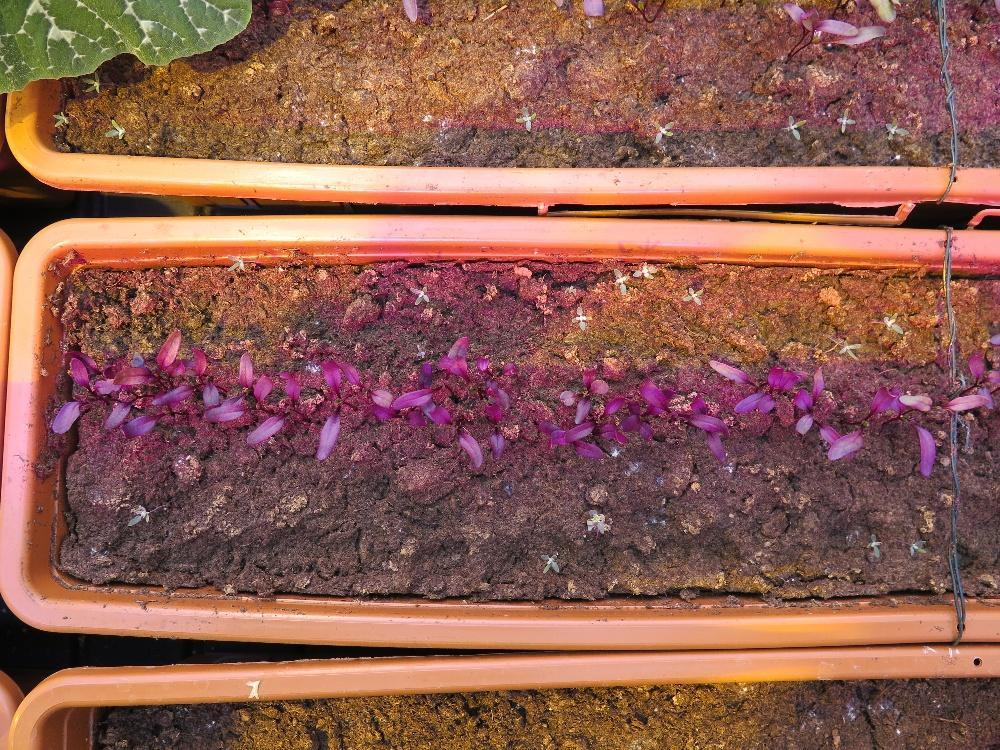weed: (569, 304, 593, 333), (512, 103, 536, 131), (882, 115, 909, 139), (651, 117, 674, 144), (126, 503, 150, 527), (632, 257, 657, 280), (834, 106, 855, 133), (102, 116, 125, 140), (881, 310, 904, 334), (836, 337, 861, 359), (785, 113, 806, 139), (407, 283, 429, 306), (539, 551, 560, 574), (612, 266, 628, 295), (681, 284, 703, 304), (865, 531, 881, 558), (225, 252, 245, 272), (907, 535, 925, 557), (51, 107, 69, 127)
